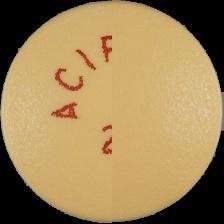62856-243: (0, 0, 224, 224)
